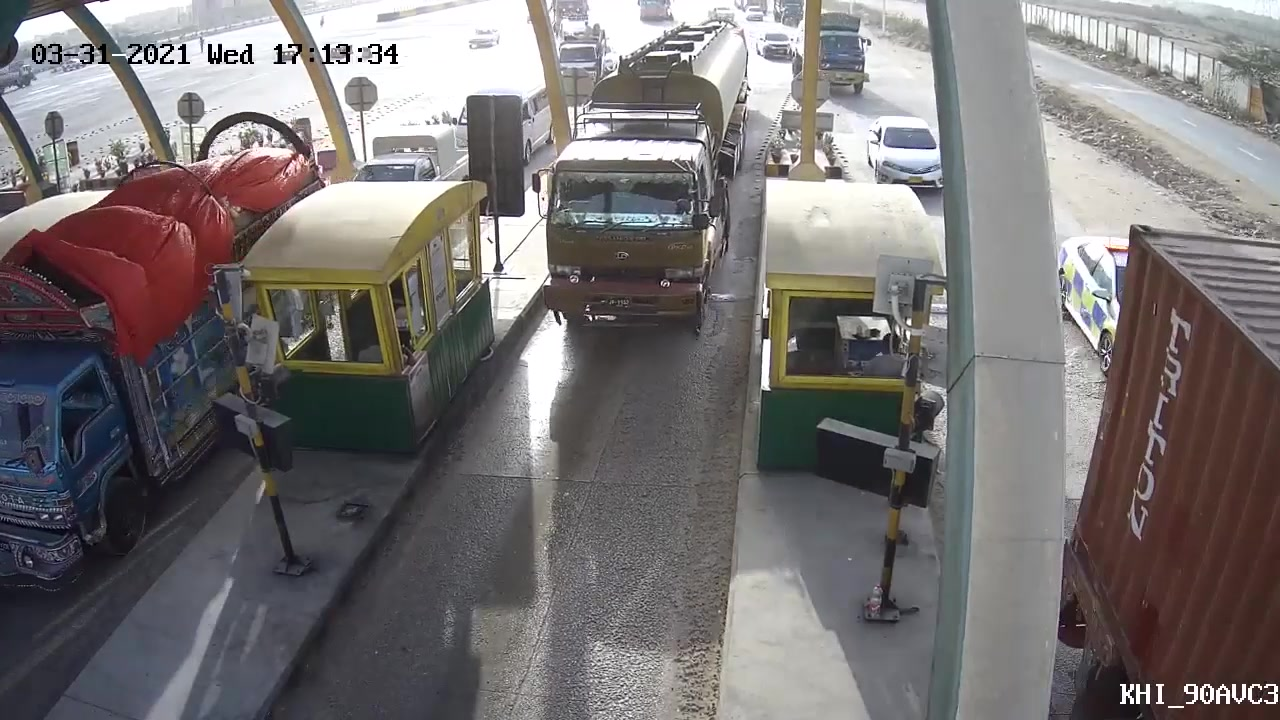F6: (538, 16, 761, 340)
